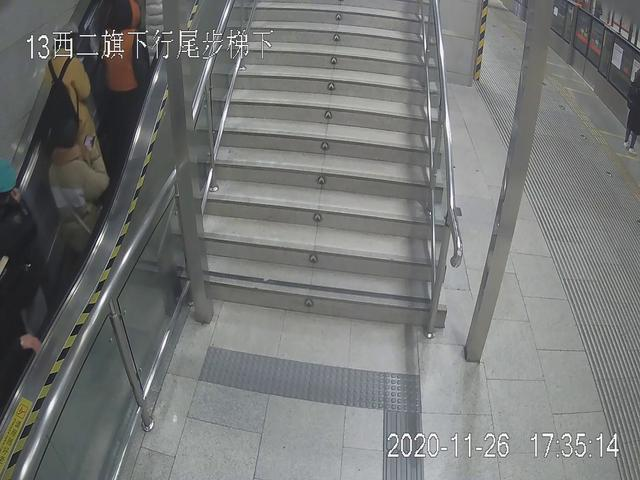person: (24, 28, 106, 193), (35, 114, 121, 266)
